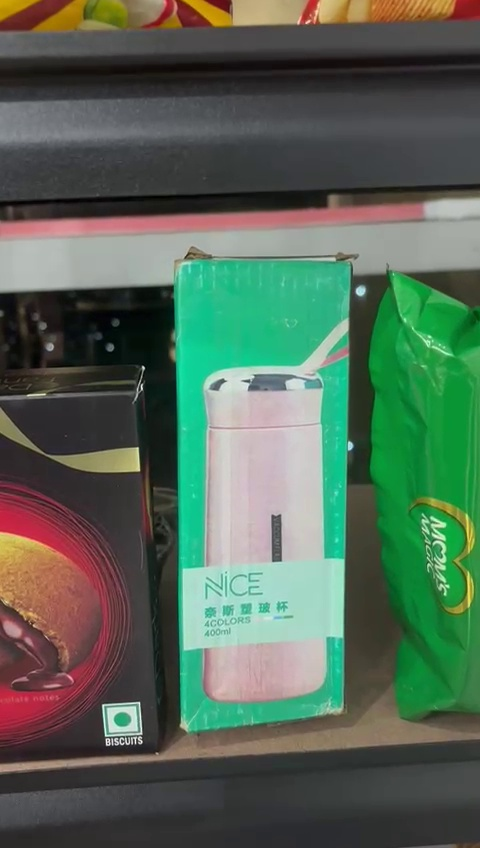Bottle: (172, 259, 347, 721)
